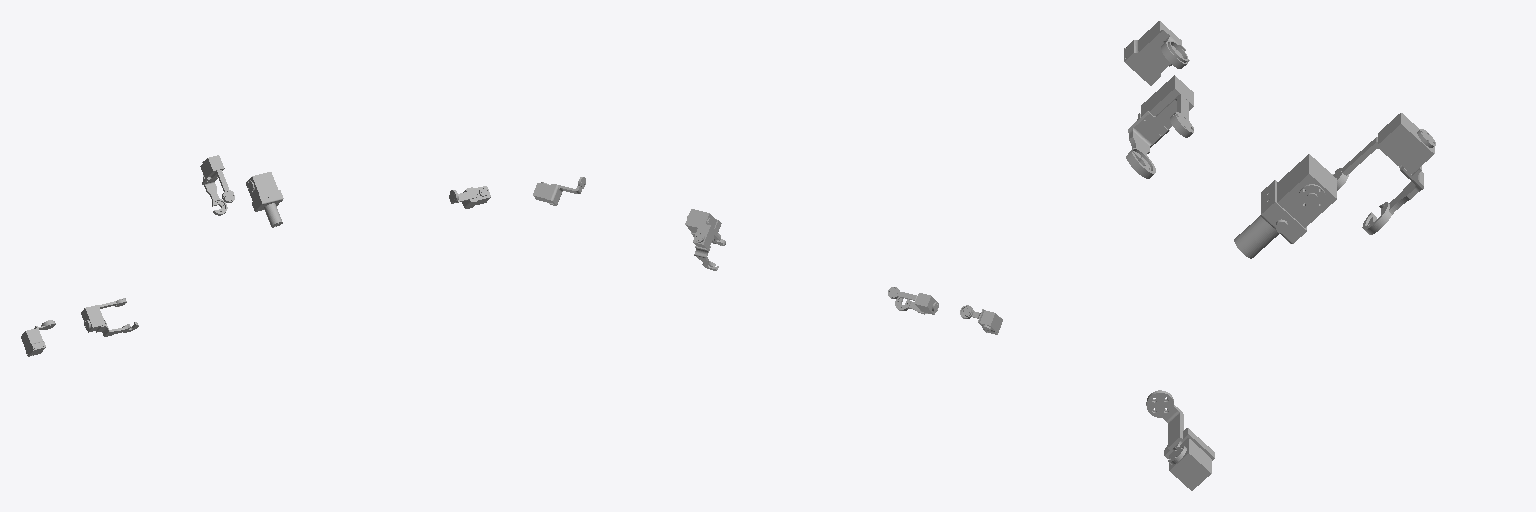
URDF robot description (flexiv_teleop_neg45_x_lighter):
<?xml version='1.0' encoding='utf-8'?>
<robot name="flexiv_teleop_neg45_x_lighter">
  <link name="world" />
  <joint name="world_to_base_link_mount_neg45_x" type="fixed">
    <parent link="world" />
    <child link="base_link" />
    <origin xyz="0 0 0" rpy="-0.785398163397448 0 0" />
  </joint>

  <link name="base_link">
    <inertial>
      <origin xyz="0.000138819690411 -0.0016195717167 -0.011398646033" rpy="0 0 0" />
      <mass value="0.111" />
      <inertia ixx="5.69431420711e-05" ixy="-1.89988345678e-08" ixz="2.12533886224e-07" iyy="5.70931531673e-05" iyz="-9.67738014848e-08" izz="4.0449892976e-05" />
    </inertial>
    <visual>
      <origin xyz="0 0 0" rpy="0 0 0" />
      <geometry>
        <mesh filename="base_link.stl" scale="1 1 1" />
      </geometry>
      <material name="flexiv_teleop_mesh">
        <color rgba="0.72 0.72 0.72 1" />
      </material>
    </visual>
    <collision>
      <origin xyz="0 0 0" rpy="0 0 0" />
      <geometry>
        <mesh filename="base_link.stl" scale="1 1 1" />
      </geometry>
    </collision>
  </link>

  <link name="link_1">
    <inertial>
      <origin xyz="0.000128700600234 0.0137649642433 0.0809051626206" rpy="0 0 0" />
      <mass value="0.115" />
      <inertia ixx="8.88499239897e-05" ixy="-7.59174394204e-09" ixz="-2.35583400109e-08" iyy="8.69121656279e-05" iyz="-9.29367699924e-06" izz="2.40979853064e-05" />
    </inertial>
    <visual>
      <origin xyz="0 0 0" rpy="0 0 0" />
      <geometry>
        <mesh filename="link_1.stl" scale="1 1 1" />
      </geometry>
      <material name="flexiv_teleop_mesh">
        <color rgba="0.72 0.72 0.72 1" />
      </material>
    </visual>
    <collision>
      <origin xyz="0 0 0" rpy="0 0 0" />
      <geometry>
        <mesh filename="link_1.stl" scale="1 1 1" />
      </geometry>
    </collision>
  </link>

  <link name="link_2">
    <inertial>
      <origin xyz="0.00793675562415 -0.000109251783809 0.0666223895078" rpy="0 0 0" />
      <mass value="0.04" />
      <inertia ixx="4.83185929342e-05" ixy="2.81678479977e-08" ixz="-5.48734234067e-06" iyy="5.35587477865e-05" iyz="-3.98475379423e-08" izz="8.23422448459e-06" />
    </inertial>
    <visual>
      <origin xyz="0 0 0" rpy="0 0 0" />
      <geometry>
        <mesh filename="link_2.stl" scale="1 1 1" />
      </geometry>
      <material name="flexiv_teleop_mesh">
        <color rgba="0.72 0.72 0.72 1" />
      </material>
    </visual>
    <collision>
      <origin xyz="0 0 0" rpy="0 0 0" />
      <geometry>
        <mesh filename="link_2.stl" scale="1 1 1" />
      </geometry>
    </collision>
  </link>

  <link name="link_3">
    <inertial>
      <origin xyz="-0.0139127681942 0.00853073534475 0.0729507412844" rpy="0 0 0" />
      <mass value="0.109" />
      <inertia ixx="7.10135399594e-05" ixy="1.11053625207e-06" ixz="8.20244545875e-06" iyy="7.61801750484e-05" iyz="-6.0800450212e-06" izz="2.12507476384e-05" />
    </inertial>
    <visual>
      <origin xyz="0 0 0" rpy="0 0 0" />
      <geometry>
        <mesh filename="link_3.stl" scale="1 1 1" />
      </geometry>
      <material name="flexiv_teleop_mesh">
        <color rgba="0.72 0.72 0.72 1" />
      </material>
    </visual>
    <collision>
      <origin xyz="0 0 0" rpy="0 0 0" />
      <geometry>
        <mesh filename="link_3.stl" scale="1 1 1" />
      </geometry>
    </collision>
  </link>

  <link name="link_4">
    <inertial>
      <origin xyz="-0.05140997343305 0.00816764457791 -0.019051272093" rpy="0 0 0" />
      <mass value="0.043" />
      <inertia ixx="2.20876827944e-05" ixy="6.23352016261e-06" ixz="3.18528787353e-06" iyy="7.33697550748e-05" iyz="2.32871147359e-06" izz="6.23710525809e-05" />
    </inertial>
    <visual>
      <origin xyz="0 0 0" rpy="0 0 0" />
      <geometry>
        <mesh filename="link_4.stl" scale="1 1 1" />
      </geometry>
      <material name="flexiv_teleop_mesh">
        <color rgba="0.72 0.72 0.72 1" />
      </material>
    </visual>
    <collision>
      <origin xyz="0 0 0" rpy="0 0 0" />
      <geometry>
        <mesh filename="link_4.stl" scale="1 1 1" />
      </geometry>
    </collision>
  </link>

  <link name="link_5">
    <inertial>
      <origin xyz="-0.00892100027515 -0.0649143670541 -0.00041500110174" rpy="0 0 0" />
      <mass value="0.042" />
      <inertia ixx="4.02038052197e-05" ixy="-7.74076988776e-06" ixz="-9.52443813495e-08" iyy="6.68054906974e-06" iyz="-3.55627738033e-07" izz="4.31008058781e-05" />
    </inertial>
    <visual>
      <origin xyz="0 0 0" rpy="0 0 0" />
      <geometry>
        <mesh filename="link_5.stl" scale="1 1 1" />
      </geometry>
      <material name="flexiv_teleop_mesh">
        <color rgba="0.72 0.72 0.72 1" />
      </material>
    </visual>
    <collision>
      <origin xyz="0 0 0" rpy="0 0 0" />
      <geometry>
        <mesh filename="link_5.stl" scale="1 1 1" />
      </geometry>
    </collision>
  </link>

  <link name="link_6">
    <inertial>
      <origin xyz="-0.0457252947244 -0.033028678678 -0.0133935101319" rpy="0 0 0" />
      <mass value="0.043" />
      <inertia ixx="1.83365490405e-05" ixy="-4.92317099978e-06" ixz="3.71429209035e-06" iyy="3.10328166335e-05" iyz="-2.04004595836e-06" izz="2.7645915658e-05" />
    </inertial>
    <visual>
      <origin xyz="0 0 0" rpy="0 0 0" />
      <geometry>
        <mesh filename="link_6.stl" scale="1 1 1" />
      </geometry>
      <material name="flexiv_teleop_mesh">
        <color rgba="0.72 0.72 0.72 1" />
      </material>
    </visual>
    <collision>
      <origin xyz="0 0 0" rpy="0 0 0" />
      <geometry>
        <mesh filename="link_6.stl" scale="1 1 1" />
      </geometry>
    </collision>
  </link>

  <!-- ==================== NEW RAIL CARRIAGE (replaces old link_7) ==================== -->
  <link name="rail_carriage_link">
    <inertial>
      <!-- COM relative to the rotating point -->
      <origin xyz="-0.000011 -0.012076 -0.099800" rpy="0 0 0"/>
      <mass value="0.214492"/>
      <inertia
        ixx="0.0003724" ixy="1.9662e-8" ixz="3.2025e-7"
        iyy="0.0005962" iyz="-4.0624e-5"
        izz="0.0002672"/>
    </inertial>
    <visual>
      <!-- Mesh shifted so (0.047, 0.00145, 0.1888) becomes the link origin -->
      <origin xyz="-0.047 -0.00145 -0.1888" rpy="0 0 0"/>
      <geometry>
        <mesh filename="link_7.stl" scale="0.001 0.001 0.001"/>
      </geometry>
      <material name="flexiv_teleop_mesh">
        <color rgba="0.72 0.72 0.72 1"/>
      </material>
    </visual>
    <collision>
      <origin xyz="-0.047 -0.00145 -0.1888" rpy="0 0 0"/>
      <geometry>
        <mesh filename="link_7.stl" scale="0.001 0.001 0.001"/>
      </geometry>
    </collision>
  </link>

  <!-- ==================== Joints ==================== -->

  <joint name="joint_1" type="revolute">
    <parent link="base_link" />
    <child link="link_1" />
    <origin xyz="0 0 0" rpy="0 0 0" />
    <axis xyz="0 0 1" />
    <limit lower="-3.14159" upper="3.14159" effort="1" velocity="1" />
  </joint>

  <joint name="joint_2" type="revolute">
    <parent link="link_1" />
    <child link="link_2" />
    <origin xyz="0.000130574300606631 0.0149399256994647 0.105023853734996" rpy="0 0 1.5707963267949" />
    <axis xyz="1 0 0" />
    <limit lower="-3.14159" upper="3.14159" effort="1" velocity="1" />
  </joint>

  <joint name="joint_3" type="revolute">
    <parent link="link_2" />
    <child link="link_3" />
    <origin xyz="0.0175578765488817 -0.000114955516336591 0.102486962967077" rpy="0 0 0" />
    <axis xyz="0 0 1" />
    <limit lower="-3.14159" upper="3.14159" effort="1" velocity="1" />
  </joint>

  <joint name="joint_4" type="revolute">
    <parent link="link_3" />
    <child link="link_4" />
    <origin xyz="-0.0151351676567868 0.00984254203913448 0.0949747" rpy="0 1.5707963267949 1.5707963267949" />
    <axis xyz="0 1 0" />
    <limit lower="-3.14159" upper="3.14159" effort="1" velocity="1" />
  </joint>

  <joint name="joint_5" type="revolute">
    <parent link="link_4" />
    <child link="link_5" />
    <origin xyz="-0.0974849293854855 0.0120735844837713 -0.00937919999999989" rpy="-3.14159265358979 0 1.5707963267949" />
    <axis xyz="0 -1 0" />
    <limit lower="-3.14159" upper="3.14159" effort="1" velocity="1" />
  </joint>

  <joint name="joint_6" type="revolute">
    <parent link="link_5" />
    <child link="link_6" />
    <origin xyz="-0.0154612367383675 -0.0949280431600081 -0.000667273159910339" rpy="-3.14159265358979 0 1.5707963267949" />
    <axis xyz="0 -1 0" />
    <limit lower="-3.14159" upper="3.14159" effort="1" velocity="1" />
  </joint>

  <!-- Joint 7 – same pose as original, now driving the rail carriage -->
  <joint name="joint_7" type="revolute">
    <parent link="link_6" />
    <child link="rail_carriage_link" />
    <origin xyz="-0.0546971044967246 -0.0367701044967213 0.00756109816304664"
            rpy="-3.14159265358979 0 1.5707963267949" />
    <axis xyz="0 0 -1" />
    <limit lower="-3.14159" upper="3.14159" effort="1" velocity="1" />
  </joint>
</robot>

<!-- <?xml version='1.0' encoding='utf-8'?>
<robot name="flexiv_teleop_neg45_x_lighter">
    <link name="world" />
    <joint name="world_to_base_link_mount_neg45_x" type="fixed">
        <parent link="world" />
        <child link="base_link" />
        <origin xyz="0 0 0" rpy="-0.785398163397448 0 0" />
    </joint>
    <link name="base_link">
        <inertial>
            <origin xyz="0.000138819690411 -0.0016195717167 -0.011398646033" rpy="0 0 0" />
            <mass value="0.111" />
            <inertia ixx="5.69431420711e-05" ixy="-1.89988345678e-08" ixz="2.12533886224e-07" iyy="5.70931531673e-05" iyz="-9.67738014848e-08" izz="4.0449892976e-05" />
        </inertial>
        <visual>
            <origin xyz="0 0 0" rpy="0 0 0" />
            <geometry>
                <mesh filename="base_link.stl" scale="1 1 1" />
            </geometry>
            <material name="flexiv_teleop_mesh">
                <color rgba="0.72 0.72 0.72 1" />
            </material>
        </visual>
        <collision>
            <origin xyz="0 0 0" rpy="0 0 0" />
            <geometry>
                <mesh filename="base_link.stl" scale="1 1 1" />
            </geometry>
        </collision>
    </link>
    <link name="link_1">
        <inertial>
            <origin xyz="0.000128700600234 0.0137649642433 0.0809051626206" rpy="0 0 0" />
            <mass value="0.115" />
            <inertia ixx="8.88499239897e-05" ixy="-7.59174394204e-09" ixz="-2.35583400109e-08" iyy="8.69121656279e-05" iyz="-9.29367699924e-06" izz="2.40979853064e-05" />
        </inertial>
        <visual>
            <origin xyz="0 0 0" rpy="0 0 0" />
            <geometry>
                <mesh filename="link_1.stl" scale="1 1 1" />
            </geometry>
            <material name="flexiv_teleop_mesh">
                <color rgba="0.72 0.72 0.72 1" />
            </material>
        </visual>
        <collision>
            <origin xyz="0 0 0" rpy="0 0 0" />
            <geometry>
                <mesh filename="link_1.stl" scale="1 1 1" />
            </geometry>
        </collision>
    </link>
    <link name="link_2">
        <inertial>
            <origin xyz="0.00793675562415 -0.000109251783809 0.0666223895078" rpy="0 0 0" />
            <mass value="0.04" />
            <inertia ixx="4.83185929342e-05" ixy="2.81678479977e-08" ixz="-5.48734234067e-06" iyy="5.35587477865e-05" iyz="-3.98475379423e-08" izz="8.23422448459e-06" />
        </inertial>
        <visual>
            <origin xyz="0 0 0" rpy="0 0 0" />
            <geometry>
                <mesh filename="link_2.stl" scale="1 1 1" />
            </geometry>
            <material name="flexiv_teleop_mesh">
                <color rgba="0.72 0.72 0.72 1" />
            </material>
        </visual>
        <collision>
            <origin xyz="0 0 0" rpy="0 0 0" />
            <geometry>
                <mesh filename="link_2.stl" scale="1 1 1" />
            </geometry>
        </collision>
    </link>
    <link name="link_3">
        <inertial>
            <origin xyz="-0.0139127681942 0.00853073534475 0.0729507412844" rpy="0 0 0" />
            <mass value="0.109" />
            <inertia ixx="7.10135399594e-05" ixy="1.11053625207e-06" ixz="8.20244545875e-06" iyy="7.61801750484e-05" iyz="-6.0800450212e-06" izz="2.12507476384e-05" />
        </inertial>
        <visual>
            <origin xyz="0 0 0" rpy="0 0 0" />
            <geometry>
                <mesh filename="link_3.stl" scale="1 1 1" />
            </geometry>
            <material name="flexiv_teleop_mesh">
                <color rgba="0.72 0.72 0.72 1" />
            </material>
        </visual>
        <collision>
            <origin xyz="0 0 0" rpy="0 0 0" />
            <geometry>
                <mesh filename="link_3.stl" scale="1 1 1" />
            </geometry>
        </collision>
    </link>
    <link name="link_4">
        <inertial>
            <origin xyz="-0.05140997343305 0.00816764457791 -0.019051272093" rpy="0 0 0" />
            <mass value="0.043" />
            <inertia ixx="2.20876827944e-05" ixy="6.23352016261e-06" ixz="3.18528787353e-06" iyy="7.33697550748e-05" iyz="2.32871147359e-06" izz="6.23710525809e-05" />
        </inertial>
        <visual>
            <origin xyz="0 0 0" rpy="0 0 0" />
            <geometry>
                <mesh filename="link_4.stl" scale="1 1 1" />
            </geometry>
            <material name="flexiv_teleop_mesh">
                <color rgba="0.72 0.72 0.72 1" />
            </material>
        </visual>
        <collision>
            <origin xyz="0 0 0" rpy="0 0 0" />
            <geometry>
                <mesh filename="link_4.stl" scale="1 1 1" />
            </geometry>
        </collision>
    </link>
    <link name="link_5">
        <inertial>
            <origin xyz="-0.00892100027515 -0.0649143670541 -0.00041500110174" rpy="0 0 0" />
            <mass value="0.042" />
            <inertia ixx="4.02038052197e-05" ixy="-7.74076988776e-06" ixz="-9.52443813495e-08" iyy="6.68054906974e-06" iyz="-3.55627738033e-07" izz="4.31008058781e-05" />
        </inertial>
        <visual>
            <origin xyz="0 0 0" rpy="0 0 0" />
            <geometry>
                <mesh filename="link_5.stl" scale="1 1 1" />
            </geometry>
            <material name="flexiv_teleop_mesh">
                <color rgba="0.72 0.72 0.72 1" />
            </material>
        </visual>
        <collision>
            <origin xyz="0 0 0" rpy="0 0 0" />
            <geometry>
                <mesh filename="link_5.stl" scale="1 1 1" />
            </geometry>
        </collision>
    </link>
    <link name="link_6">
        <inertial>
            <origin xyz="-0.0457252947244 -0.033028678678 -0.0133935101319" rpy="0 0 0" />
            <mass value="0.043" />
            <inertia ixx="1.83365490405e-05" ixy="-4.92317099978e-06" ixz="3.71429209035e-06" iyy="3.10328166335e-05" iyz="-2.04004595836e-06" izz="2.7645915658e-05" />
        </inertial>
        <visual>
            <origin xyz="0 0 0" rpy="0 0 0" />
            <geometry>
                <mesh filename="link_6.stl" scale="1 1 1" />
            </geometry>
            <material name="flexiv_teleop_mesh">
                <color rgba="0.72 0.72 0.72 1" />
            </material>
        </visual>
        <collision>
            <origin xyz="0 0 0" rpy="0 0 0" />
            <geometry>
                <mesh filename="link_6.stl" scale="1 1 1" />
            </geometry>
        </collision>
    </link>
    <link name="link_7">
        <inertial>
            <origin xyz="-0.00587330493112 0.00242630879991 -0.0385699539614" rpy="0 0 0" />
            <mass value="0.046" />
            <inertia ixx="6.53720787748e-05" ixy="-1.34299451794e-06" ixz="8.57456156501e-06" iyy="7.4257019624e-05" iyz="4.46121576433e-06" izz="1.45174604971e-05" />
        </inertial>
        <visual>
            <origin xyz="0 0 0" rpy="0 0 0" />
            <geometry>
                <mesh filename="link_7.stl" scale="1 1 1" />
            </geometry>
            <material name="flexiv_teleop_mesh">
                <color rgba="0.72 0.72 0.72 1" />
            </material>
        </visual>
        <collision>
            <origin xyz="0 0 0" rpy="0 0 0" />
            <geometry>
                <mesh filename="link_7.stl" scale="1 1 1" />
            </geometry>
        </collision>
    </link>
    <joint name="joint_1" type="revolute">
        <parent link="base_link" />
        <child link="link_1" />
        <origin xyz="0 0 0" rpy="0 0 0" />
        <axis xyz="0 0 1" />
        <limit lower="-3.14159" upper="3.14159" effort="1" velocity="1" />
    </joint>
    <joint name="joint_2" type="revolute">
        <parent link="link_1" />
        <child link="link_2" />
        <origin xyz="0.000130574300606631 0.0149399256994647 0.105023853734996" rpy="0 0 1.5707963267949" />
        <axis xyz="1 0 0" />
        <limit lower="-3.14159" upper="3.14159" effort="1" velocity="1" />
    </joint>
    <joint name="joint_3" type="revolute">
        <parent link="link_2" />
        <child link="link_3" />
        <origin xyz="0.0175578765488817 -0.000114955516336591 0.102486962967077" rpy="0 0 0" />
        <axis xyz="0 0 1" />
        <limit lower="-3.14159" upper="3.14159" effort="1" velocity="1" />
    </joint>
    <joint name="joint_4" type="revolute">
        <parent link="link_3" />
        <child link="link_4" />
        <origin xyz="-0.0151351676567868 0.00984254203913448 0.0949747" rpy="0 1.5707963267949 1.5707963267949" />
        <axis xyz="0 1 0" />
        <limit lower="-3.14159" upper="3.14159" effort="1" velocity="1" />
    </joint>
    <joint name="joint_5" type="revolute">
        <parent link="link_4" />
        <child link="link_5" />
        <origin xyz="-0.0974849293854855 0.0120735844837713 -0.00937919999999989" rpy="-3.14159265358979 0 1.5707963267949" />
        <axis xyz="0 -1 0" />
        <limit lower="-3.14159" upper="3.14159" effort="1" velocity="1" />
    </joint>
    <joint name="joint_6" type="revolute">
        <parent link="link_5" />
        <child link="link_6" />
        <origin xyz="-0.0154612367383675 -0.0949280431600081 -0.000667273159910339" rpy="-3.14159265358979 0 1.5707963267949" />
        <axis xyz="0 -1 0" />
        <limit lower="-3.14159" upper="3.14159" effort="1" velocity="1" />
    </joint>
    <joint name="joint_7" type="revolute">
        <parent link="link_6" />
        <child link="link_7" />
        <origin xyz="-0.0546971044967246 -0.0367701044967213 0.00756109816304664" rpy="-3.14159265358979 0 1.5707963267949" />
        <axis xyz="0 0 -1" />
        <limit lower="-3.14159" upper="3.14159" effort="1" velocity="1" />
    </joint>
</robot> -->

--- Render facts (derived) ---
Views: 3 orthographic renders of the robot side by side, from view 1: azimuth 30°, elevation 25°; view 2: azimuth 150°, elevation 25°; view 3: azimuth 270°, elevation 25°.
Robot: flexiv_teleop_neg45_x_lighter — 9 links, 8 joints (7 revolute, 1 fixed); root link world; default pose: every joint at zero.
Links seen in each view (by area): view 1: link_1, link_2, link_4, link_5, link_6; view 2: link_4, link_2, link_5, link_6, link_1; view 3: link_1, link_2, link_4, link_5, link_6.
Link boxes in pixels (x1,y1,x2,y2): link_1: (246,172,283,227); link_2: (200,155,234,215); link_4: (81,298,138,336); link_5: (449,186,490,208); link_6: (21,320,55,356); link_4: (888,287,938,314); link_2: (693,223,725,270); link_5: (533,177,585,205); link_6: (960,305,1002,334); link_1: (685,209,721,243); link_1: (1234,154,1336,258); link_2: (1332,113,1435,234); link_4: (1126,75,1193,178); link_5: (1146,390,1214,490); link_6: (1124,21,1189,85).
Bounding box of the posed robot: 830 × 224 × 167 m (x, y, z).
6 mesh visuals loaded from 8 distinct referenced files (6 binary STL); not drawn: 2 (reference not matched to a file when rendering).
